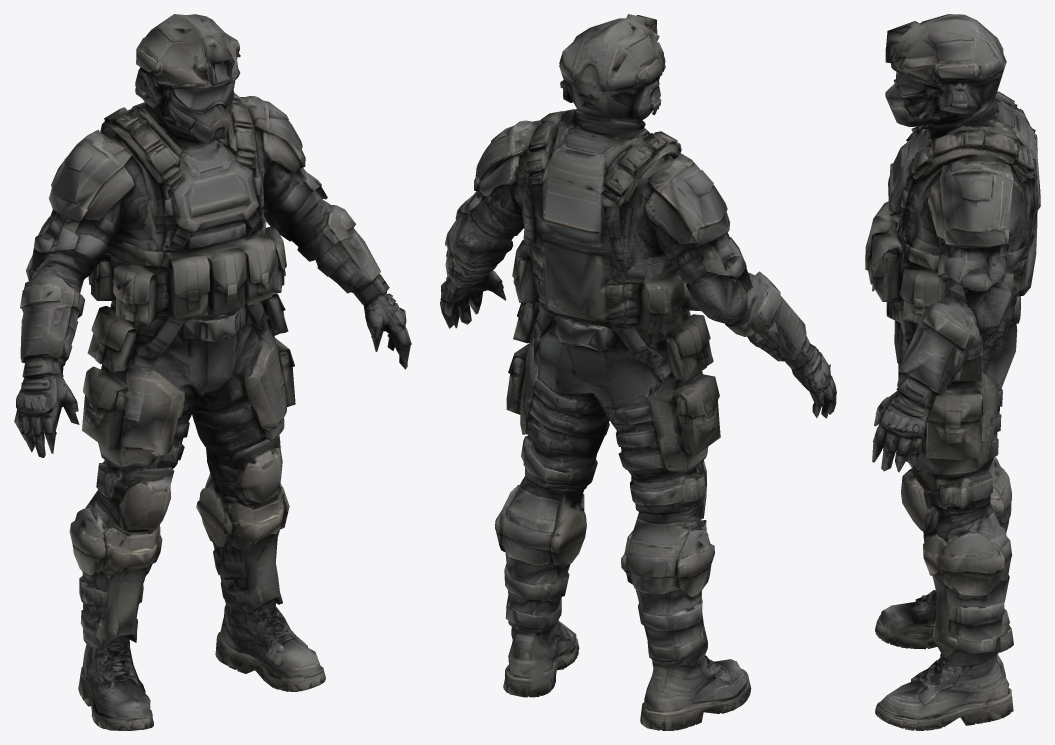
File: enemy_heavy.glb
The picture shows the model from 3 angles, left to right: view 1: azimuth 30°, elevation 25°; view 2: azimuth 150°, elevation 25°; view 3: azimuth 270°, elevation 25°; orthographic projection.
Visible parts, largest first — view 1: node_0; view 2: node_0; view 3: node_0.
Boxes of the visible parts, x1=… form: node_0: x1=14, y1=14, x2=411, y2=730; node_0: x1=440, y1=14, x2=836, y2=730; node_0: x1=865, y1=14, x2=1040, y2=730.
Size of the model in its own units: 0.6866 by 1.14 by 0.2728.
1 material, 1 textured.
